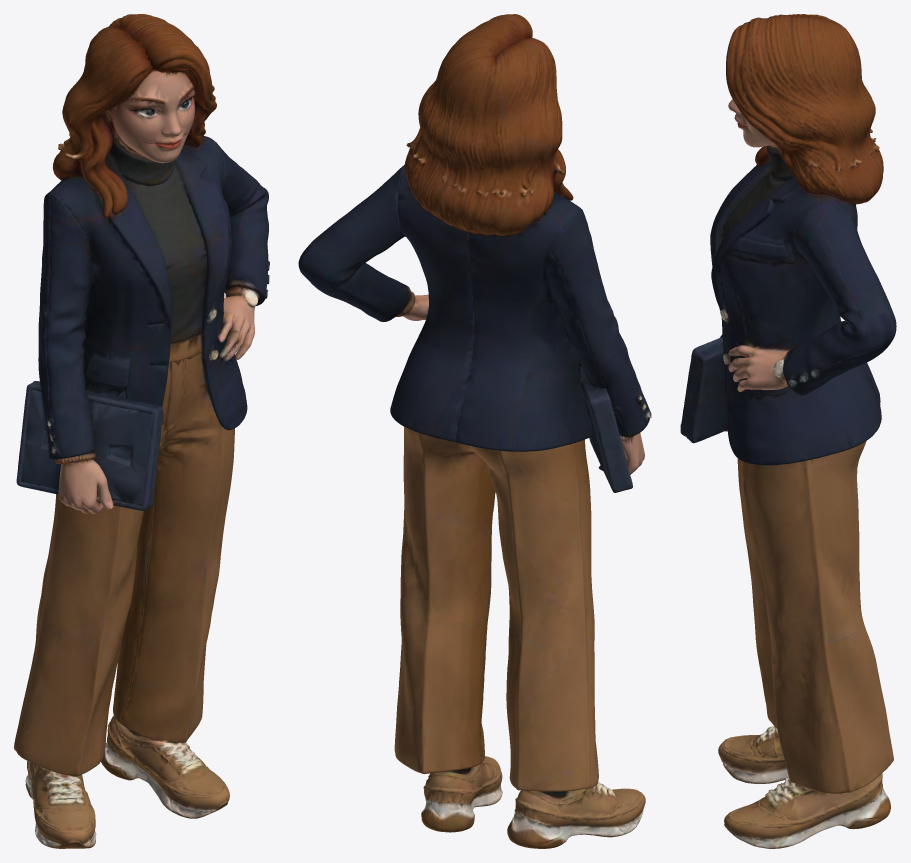
File: fashion_model_optimized.glb
The picture shows the model from 3 angles, left to right: view 1: azimuth 30°, elevation 25°; view 2: azimuth 150°, elevation 25°; view 3: azimuth 270°, elevation 25°; orthographic projection. The views are drawn at different scales.
Parts seen in each view (by area): view 1: tripo_node_996b01f3-4f39-46a2-98e1-b9c5b634194c; view 2: tripo_node_996b01f3-4f39-46a2-98e1-b9c5b634194c; view 3: tripo_node_996b01f3-4f39-46a2-98e1-b9c5b634194c.
Part boxes in pixels (left/top/right/bottom): tripo_node_996b01f3-4f39-46a2-98e1-b9c5b634194c: left=14, top=14, right=269, bottom=848; tripo_node_996b01f3-4f39-46a2-98e1-b9c5b634194c: left=298, top=14, right=651, bottom=848; tripo_node_996b01f3-4f39-46a2-98e1-b9c5b634194c: left=680, top=14, right=896, bottom=848.
Size of the model in its own units: 0.3743 by 0.9793 by 0.238.
1 material, 1 textured.
